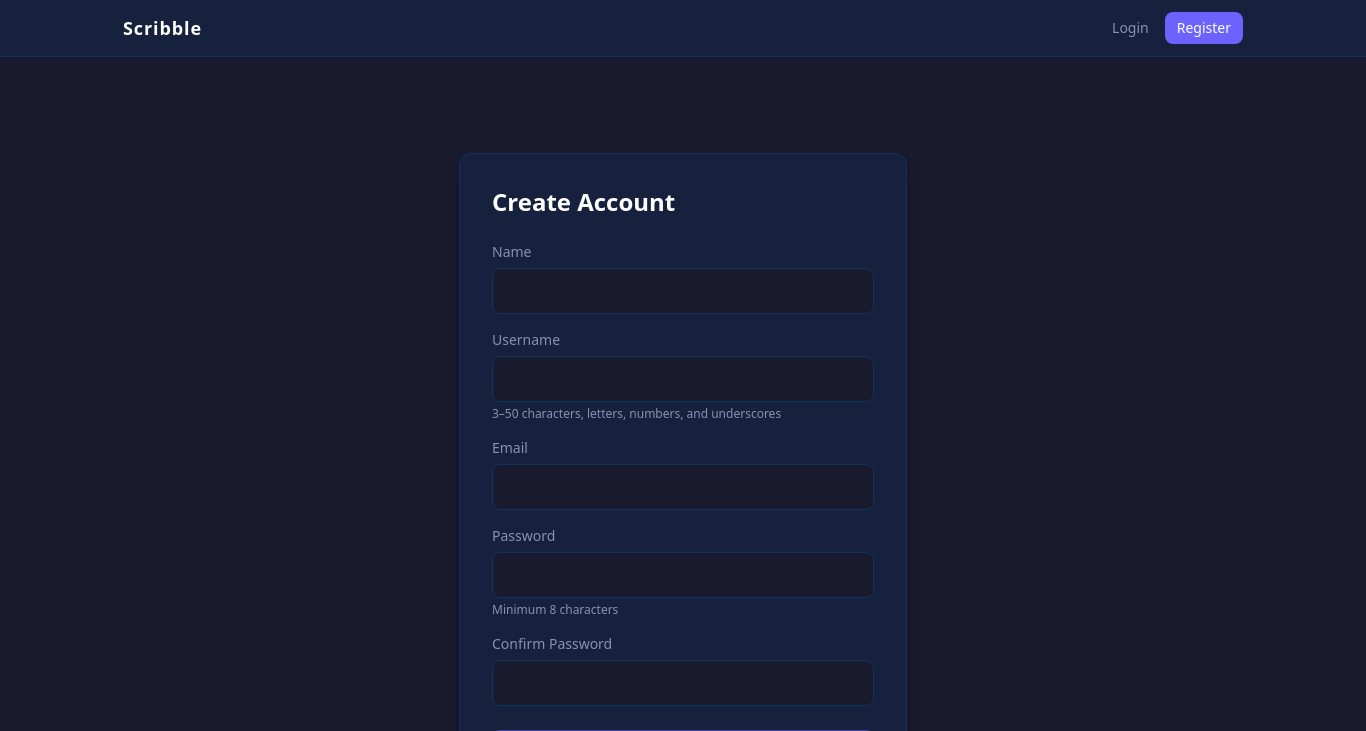
RegisterPage › shows error when passwords do not match
The image size is (1366, 731).
Type "Test User" into the field labelled "Name" at point(683, 291), box [492,268,874,314]
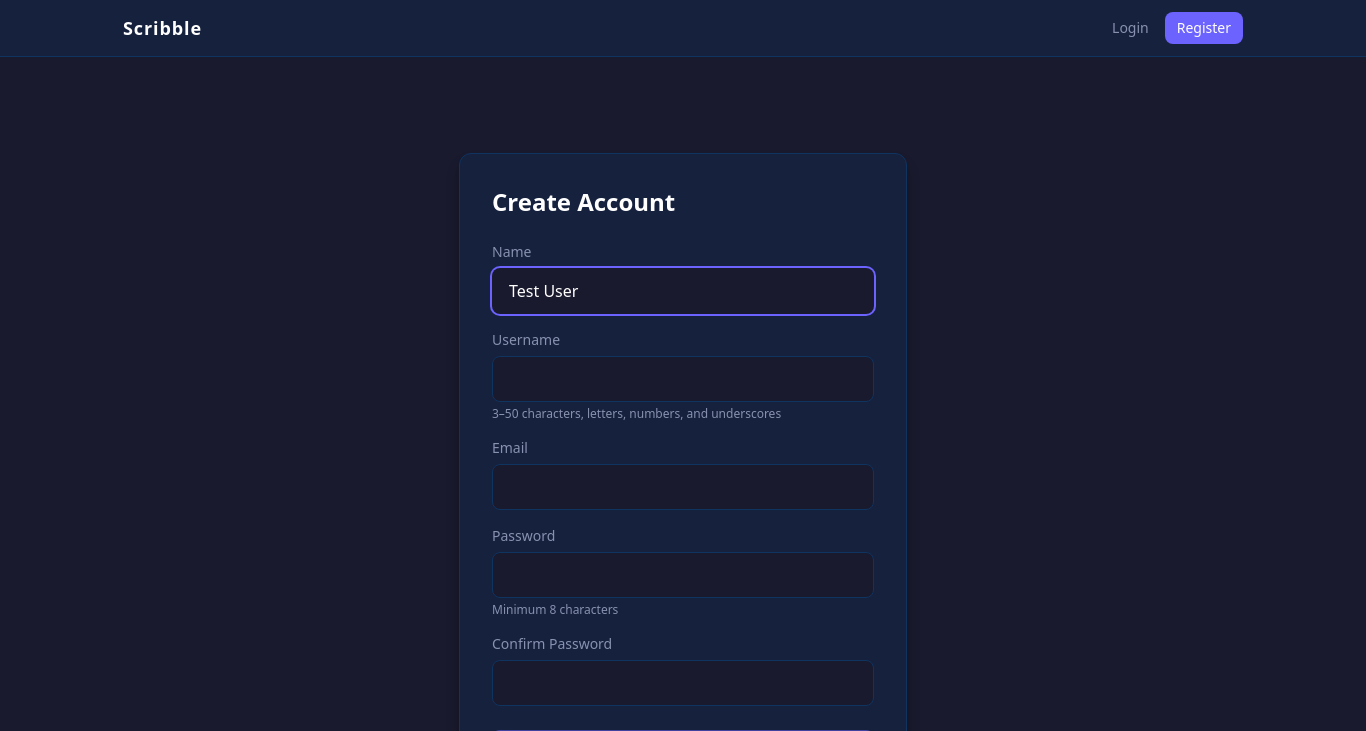
Type "testuser" into the field labelled "Username" at point(683, 379), box [492,356,874,402]
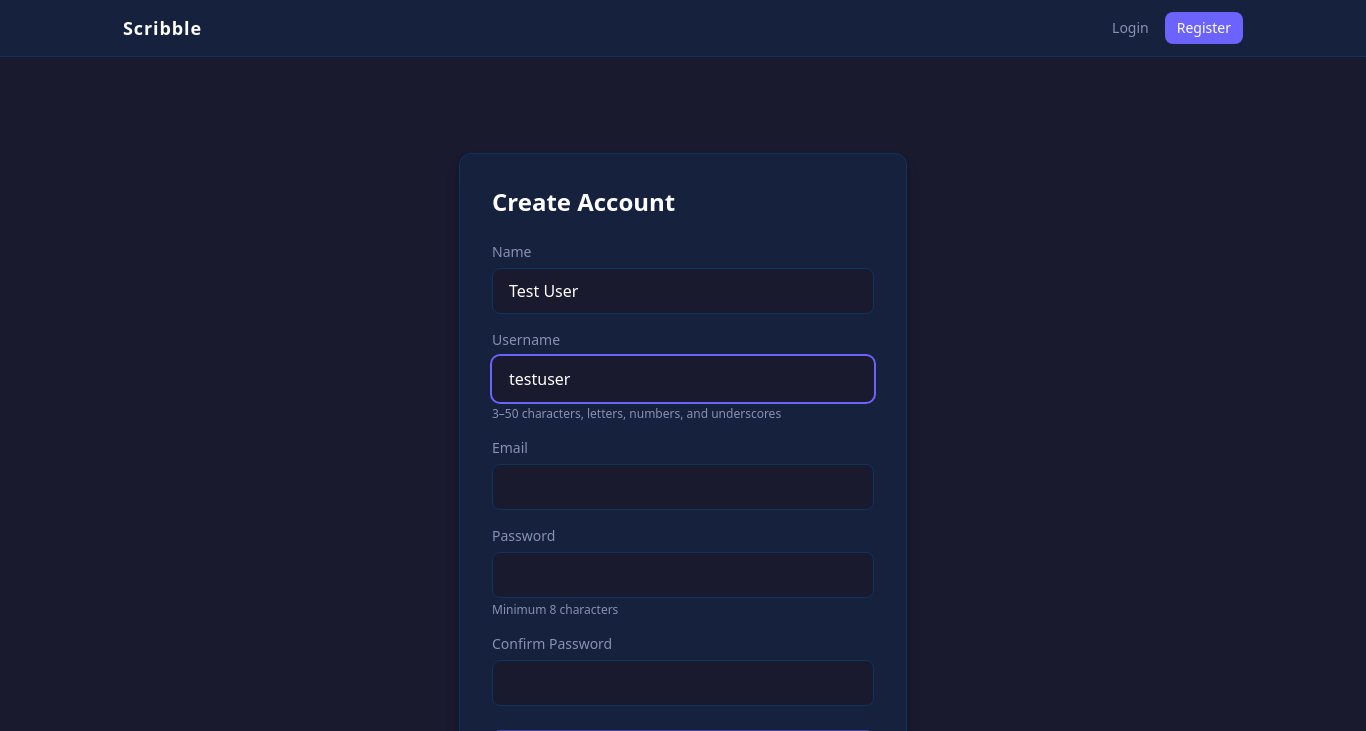
Type "test@example.com" into the field labelled "Email" at point(683, 487), box [492,464,874,510]
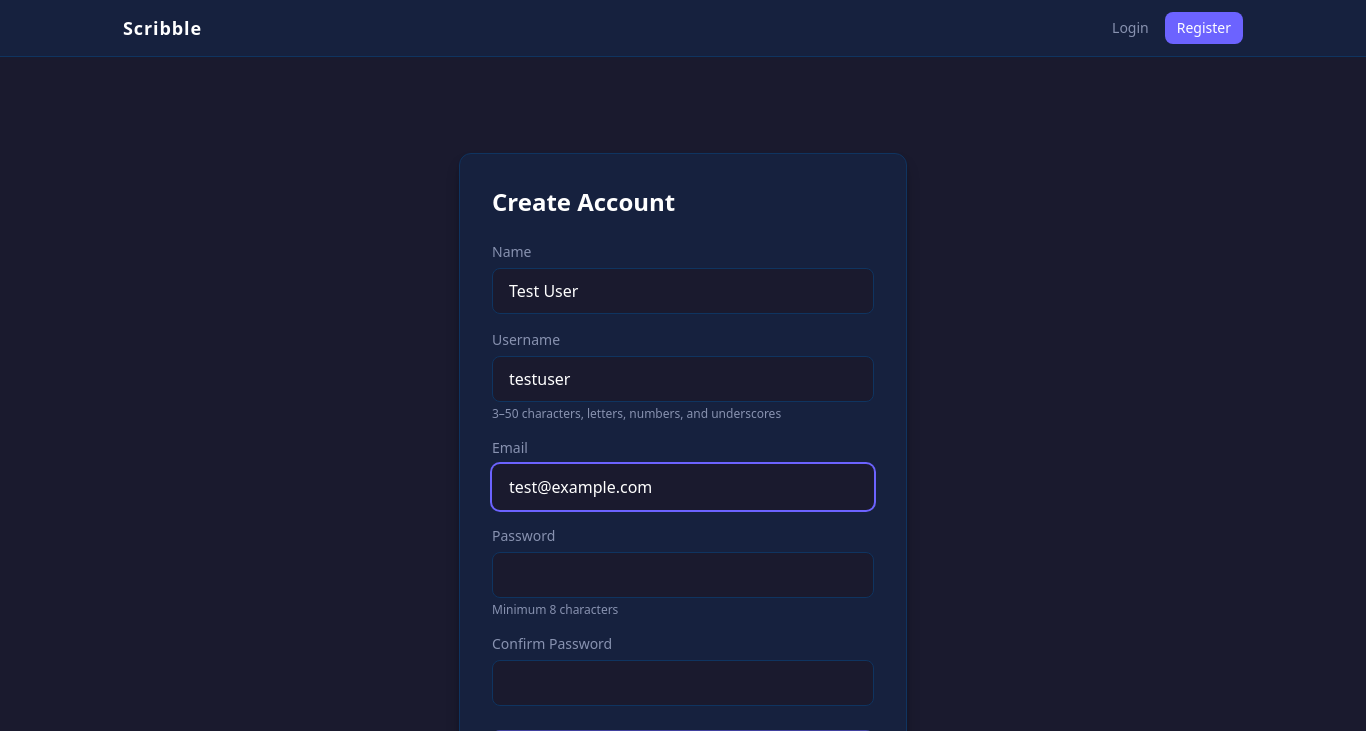
Type "password123" into the password field labelled "Password" at point(683, 575), box [492,552,874,598]
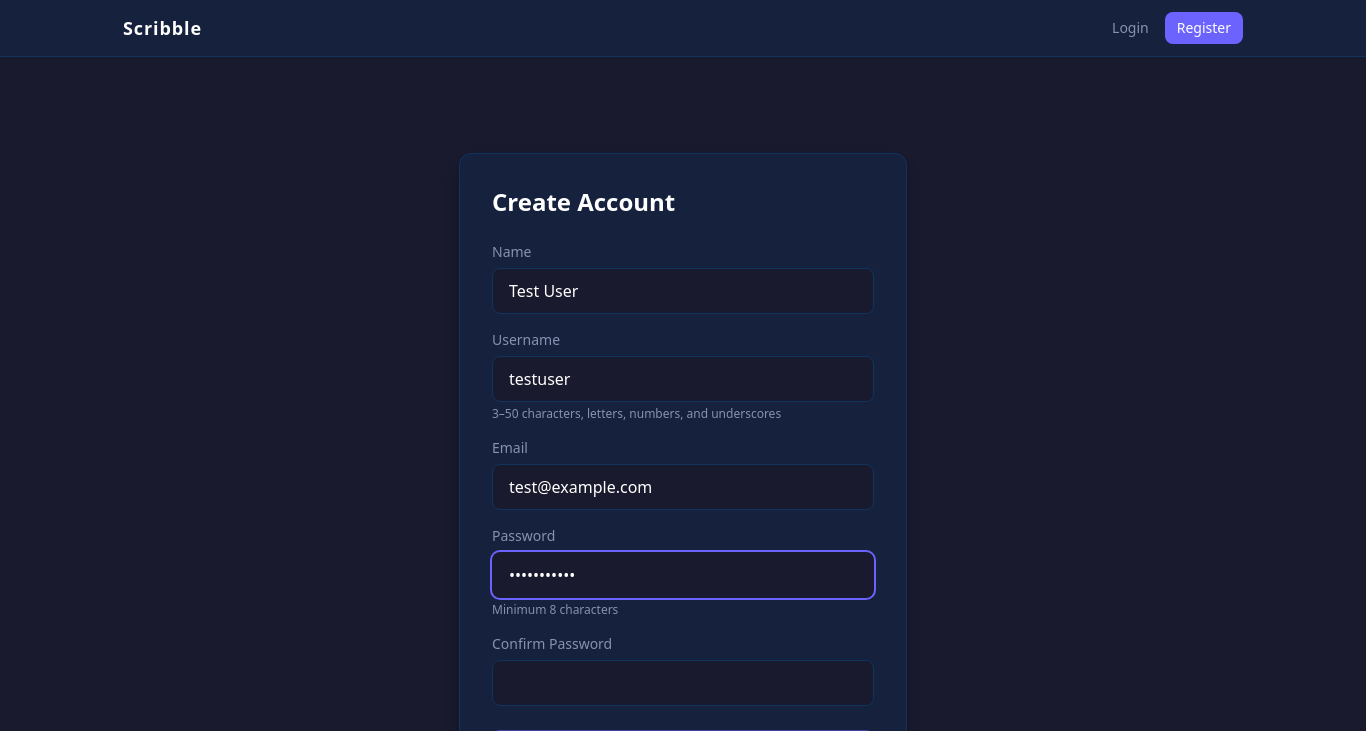
Type "different456" into the password field labelled "Confirm Password" at point(683, 683), box [492,660,874,706]
(page scrolled)
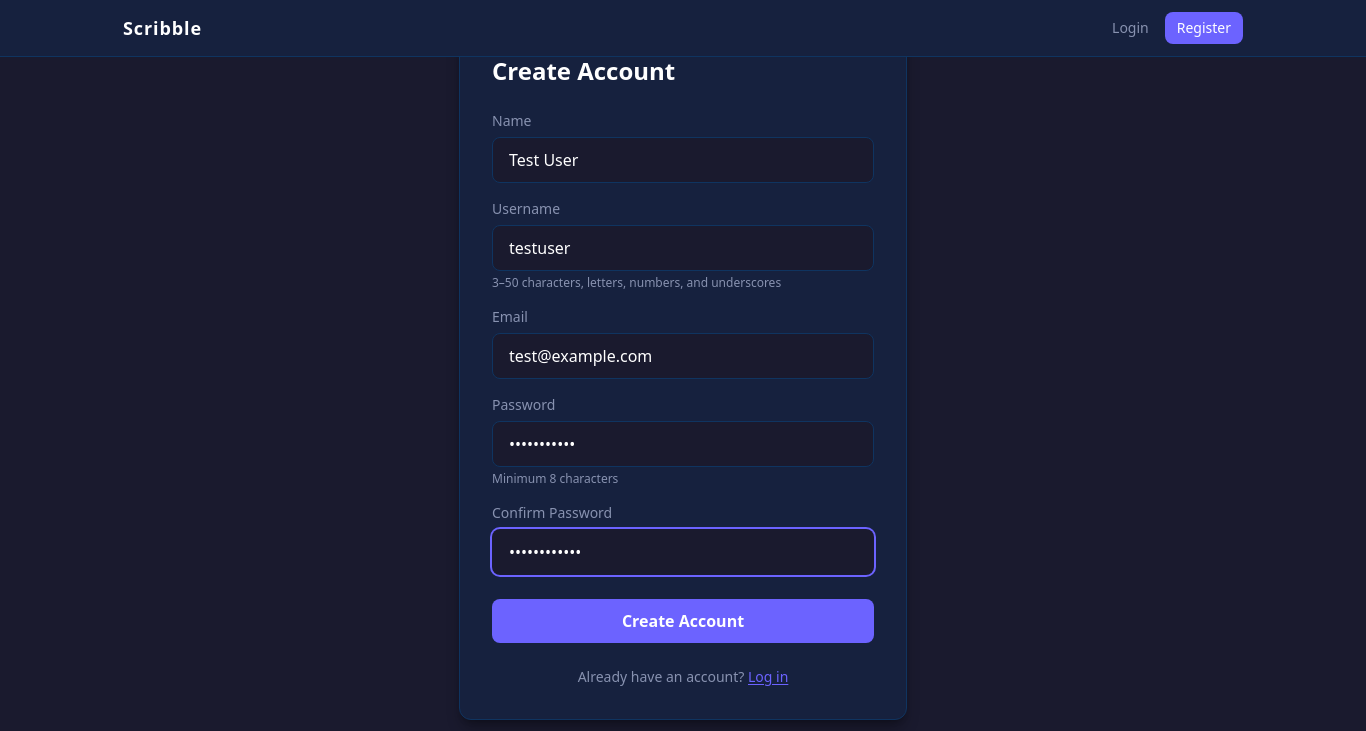
Click the button "Create Account" at point(683, 621), box [492,599,874,643]
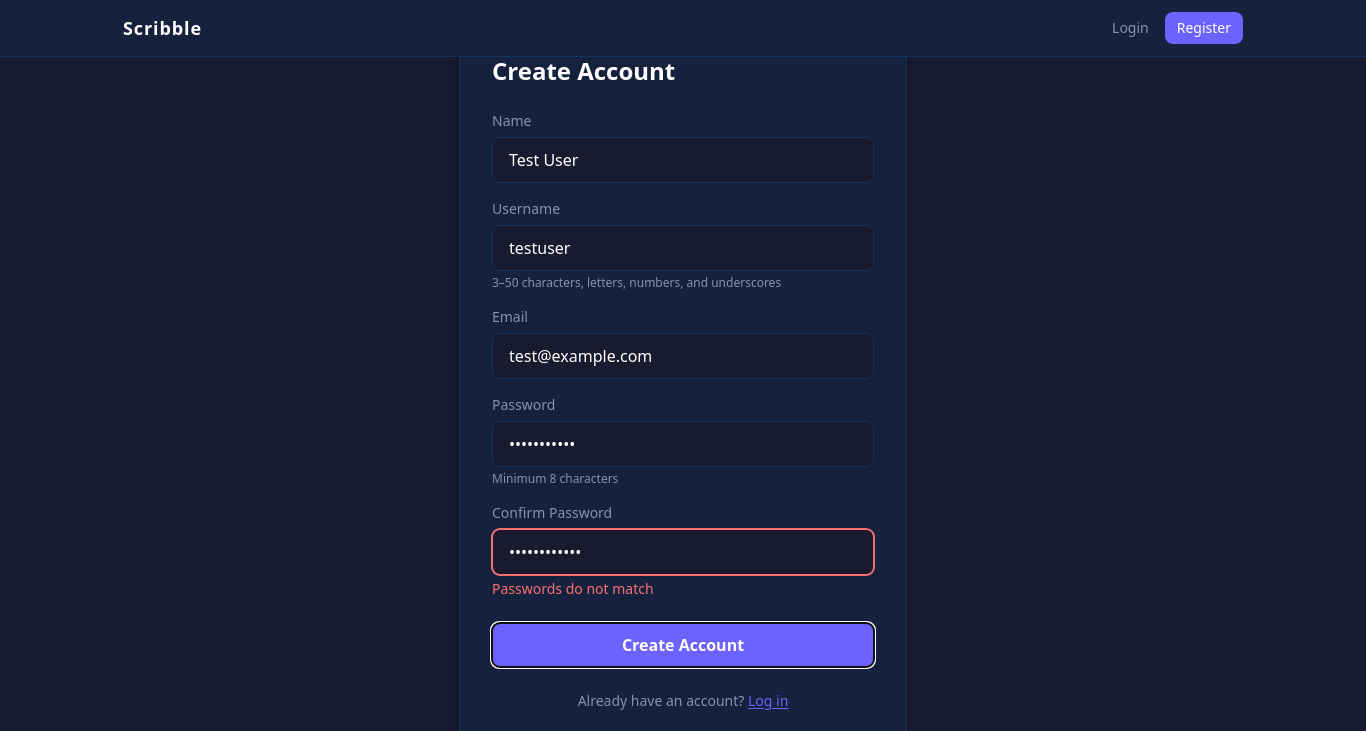
Check: the text "Passwords do not match" is shown, box [492,579,654,598]
